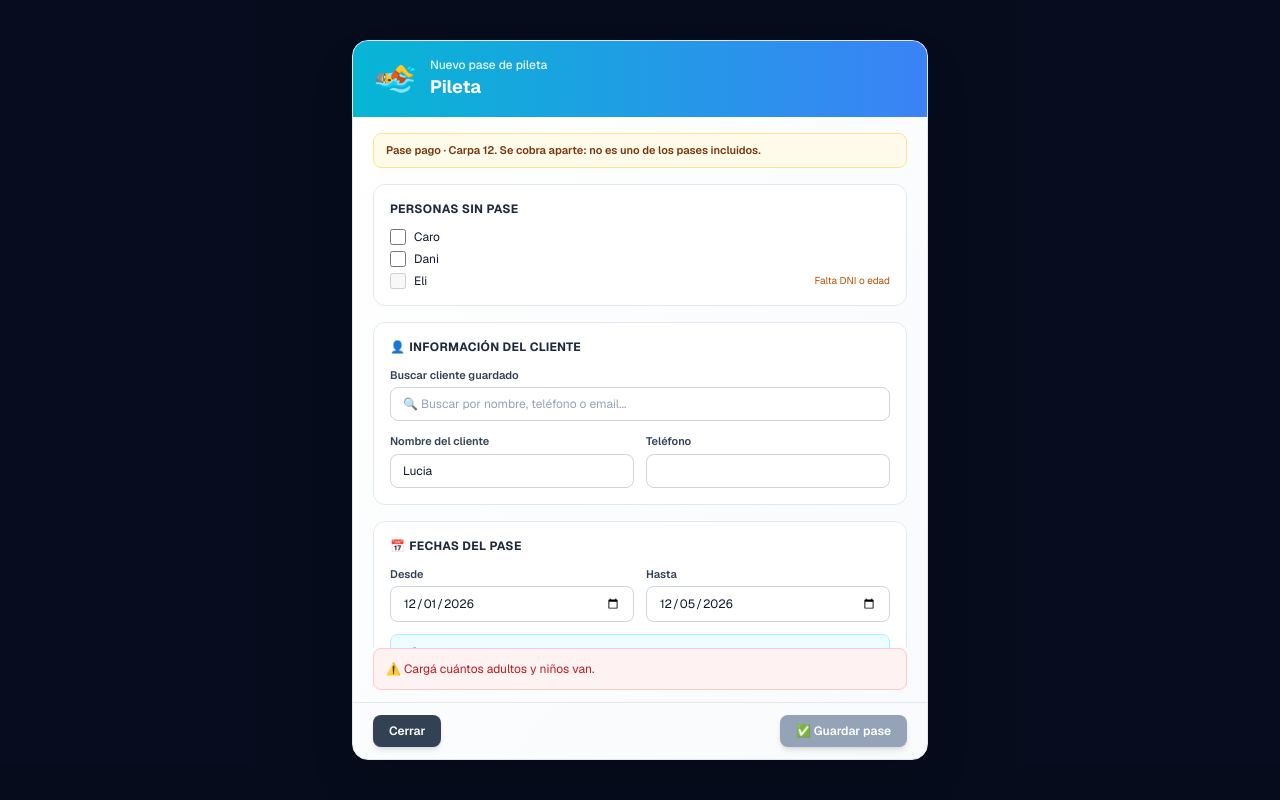
it: vender pase de pileta desde la carpa › sin personas o sin precio no se guarda: el pase quedaria en $0
Expected: the button "✅ Guardar pase" is disabled, [780,715,907,747]
Expected: the text "⚠️ Cargá cuántos adultos y niños van." is shown, [373,648,907,690]
Click the checkbox named "Vender pase a Caro": (398, 236) [390,228,406,244]
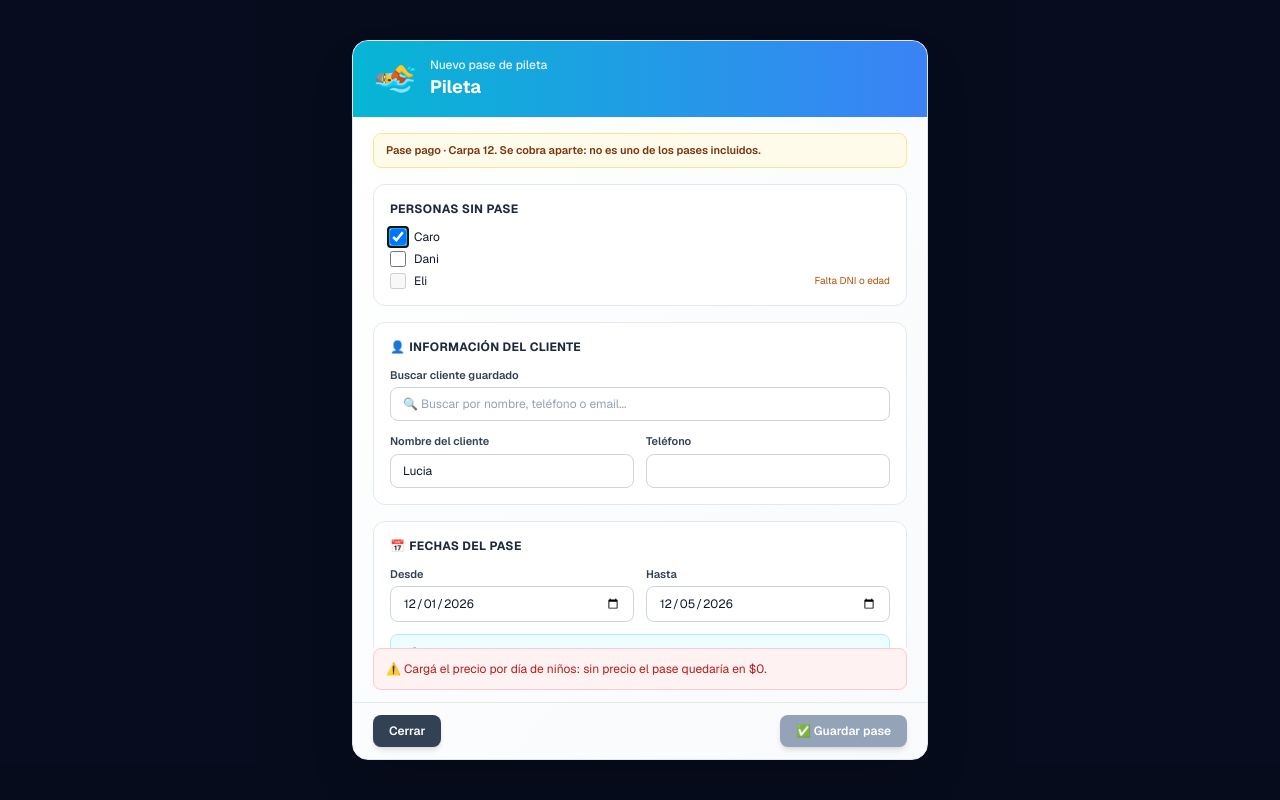
Click the checkbox named "Vender pase a Dani": (398, 258) [390,250,406,266]
(page scrolled)
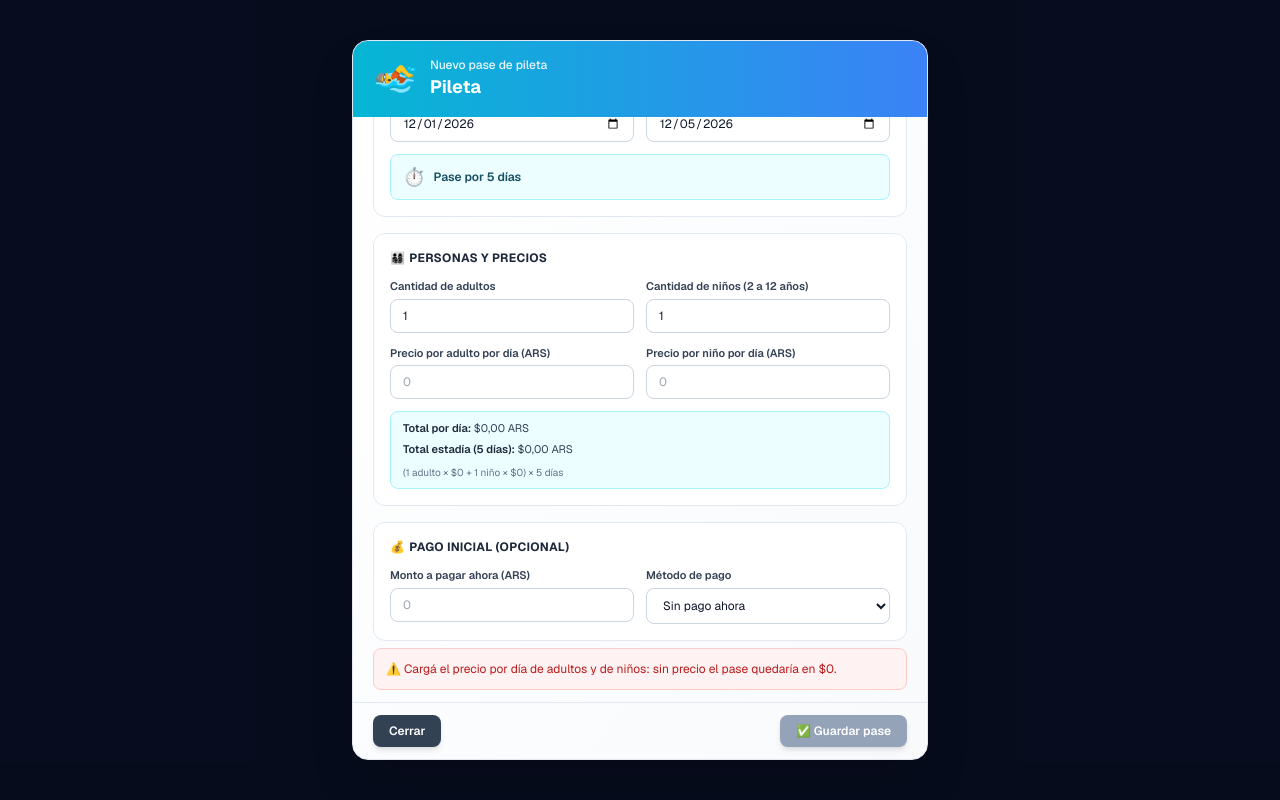
Now the text "Cargá el precio por día de adultos y de niños" is shown, box [373,648,907,690]
In the field labelled "Precio por adulto por día (ARS)": (512, 382) [390,365,634,399], type "6000"
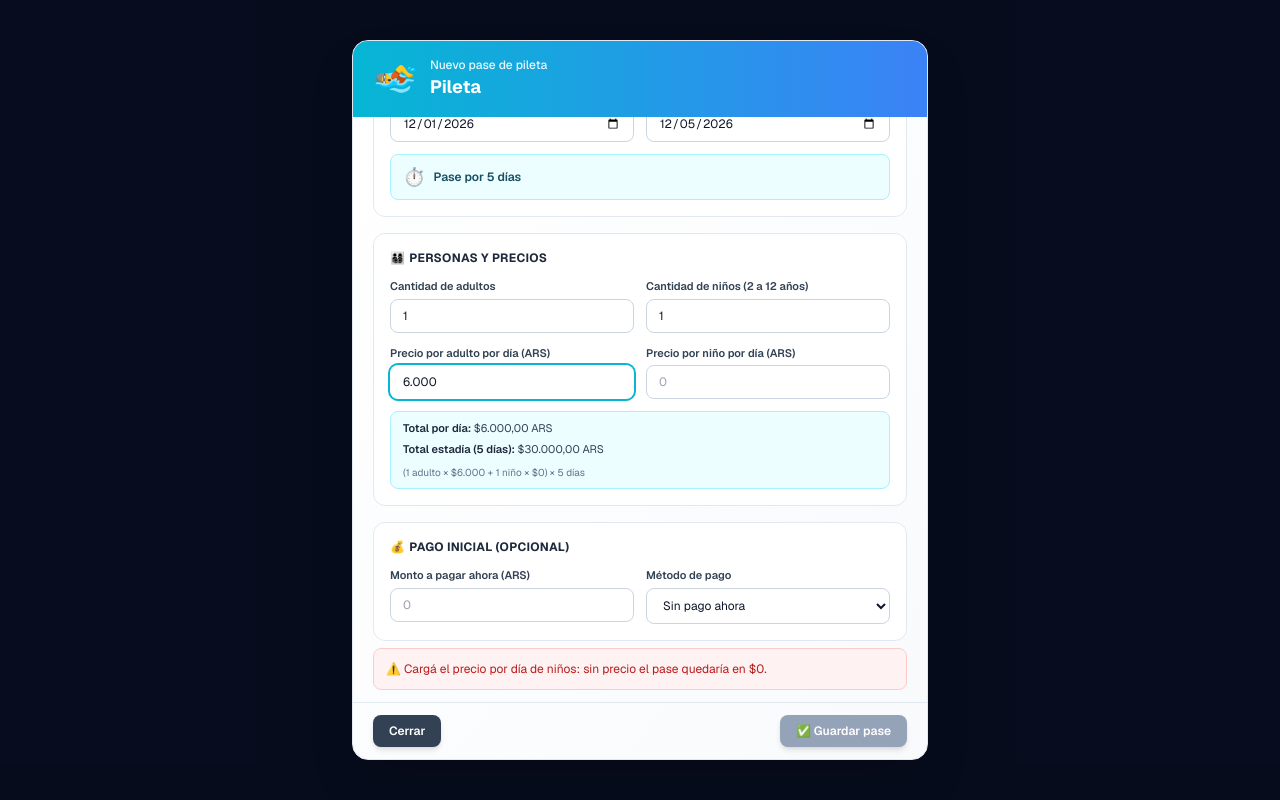
Expected: the button "✅ Guardar pase" is disabled, [780,715,907,747]
Now the text "Cargá el precio por día de niños" is shown, box [373,648,907,690]
In the field labelled "Precio por niño por día (ARS)": (768, 382) [646,365,890,399], type "4000"
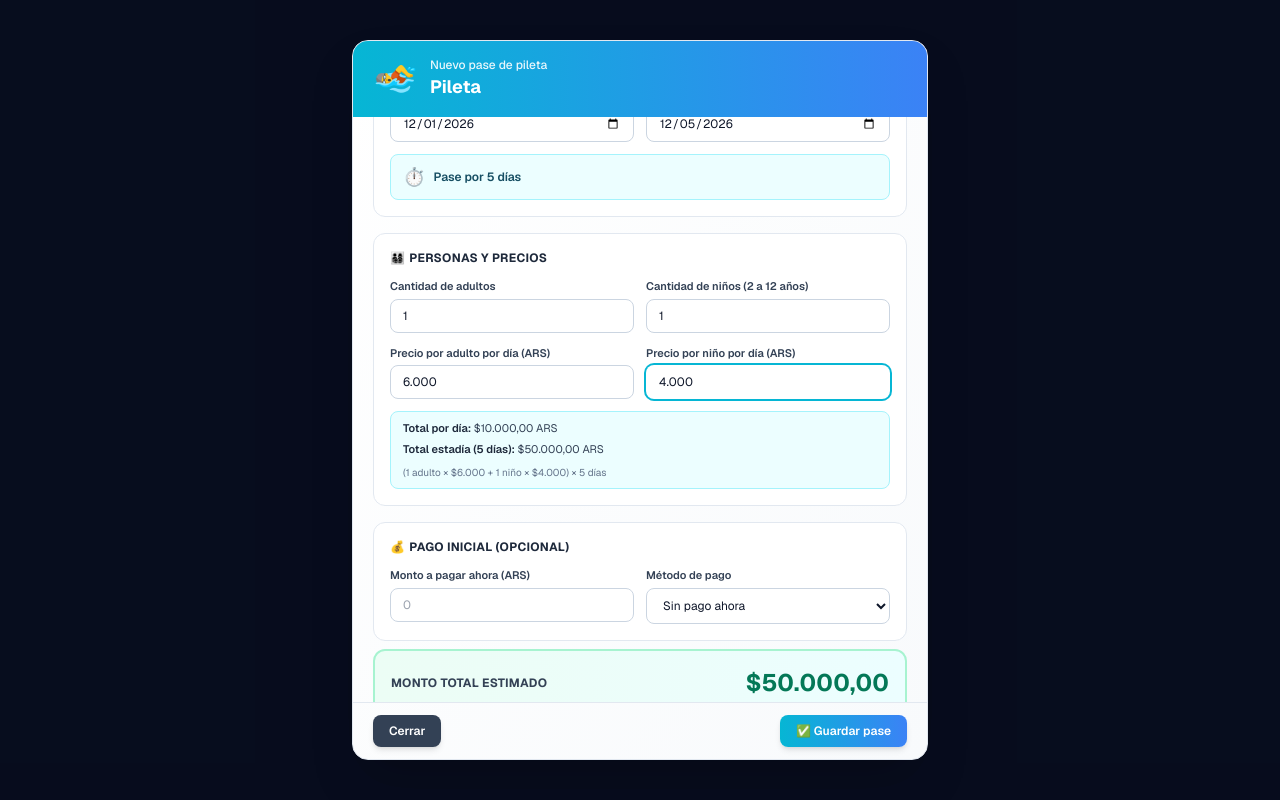
Now the button "✅ Guardar pase" is enabled, box [780,715,907,747]
